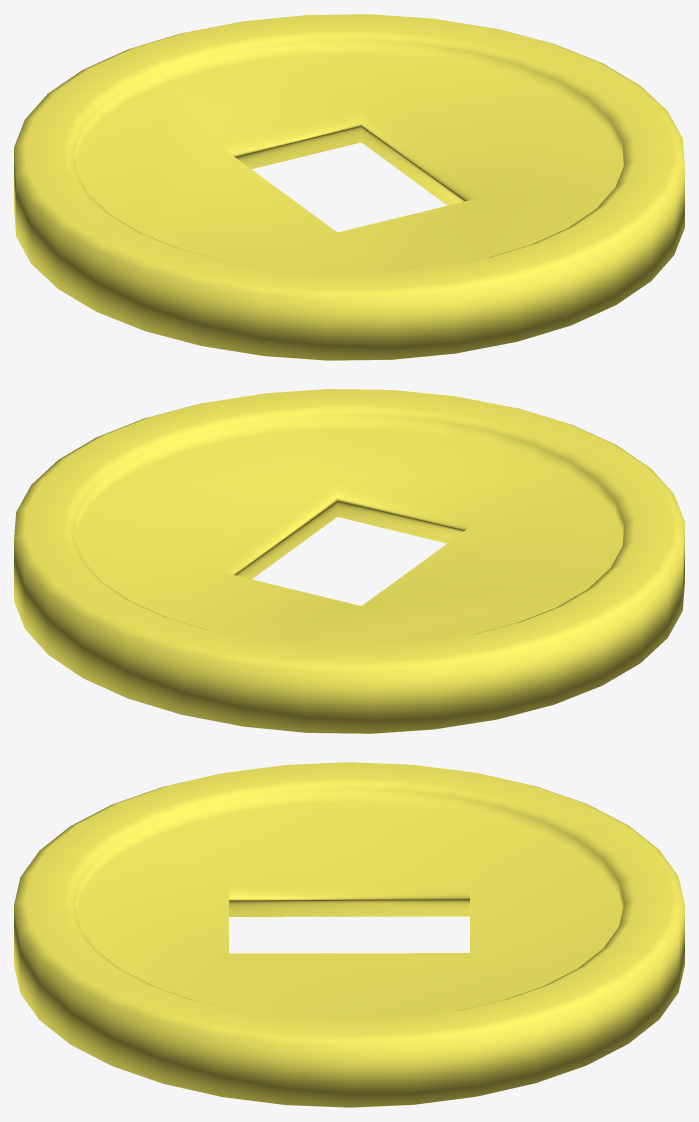
File: GoldCoin.glb
3 renders of one model, top to bottom at view 1: azimuth 30°, elevation 25°; view 2: azimuth 150°, elevation 25°; view 3: azimuth 270°, elevation 25°, orthographic.
Parts seen in each view (by area): view 1: ทรงกระบอก; view 2: ทรงกระบอก; view 3: ทรงกระบอก.
Part boxes in pixels (x1=…): ทรงกระบอก: x1=14, y1=14, x2=684, y2=360; ทรงกระบอก: x1=14, y1=389, x2=684, y2=733; ทรงกระบอก: x1=14, y1=762, x2=684, y2=1107.
Bounding box in the file's own units: 0.5722 × 0.0682 × 0.5723.
